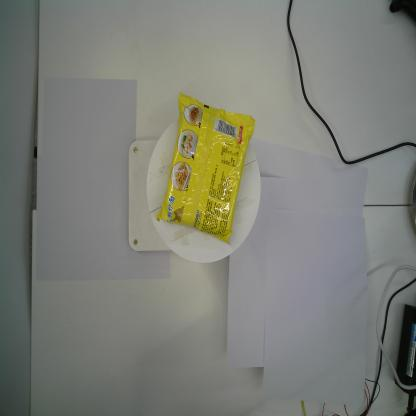Instant Noodles: (155, 90, 256, 247)
